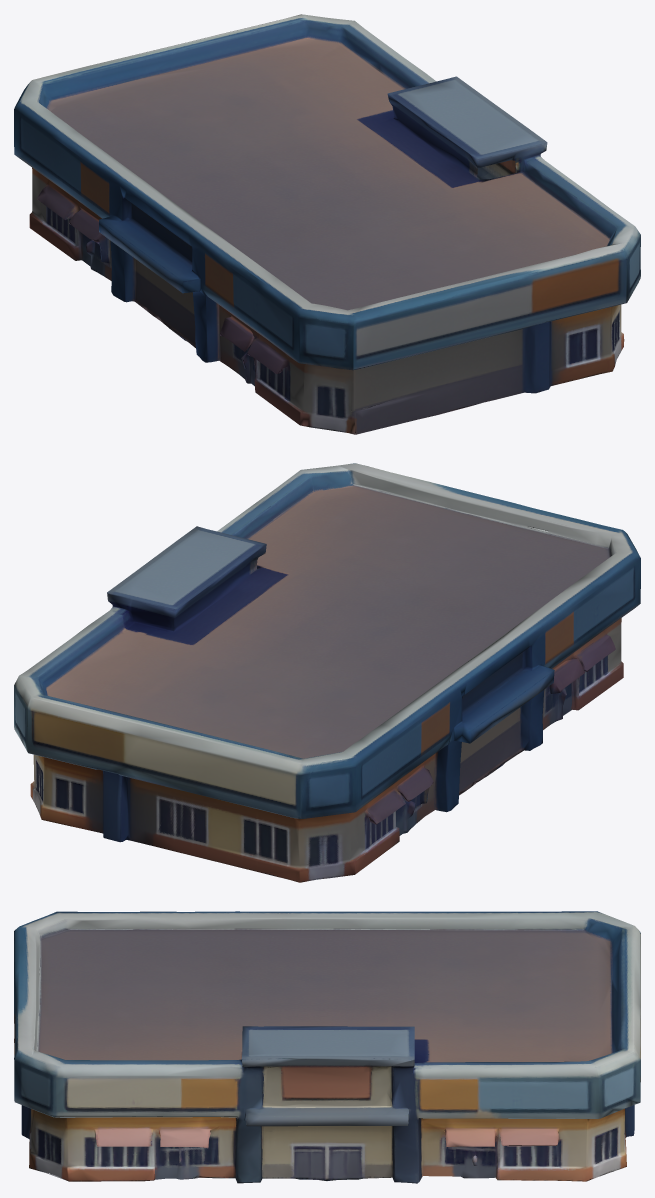
File: retail_mall.glb
3 views of the same model, one above another, from view 1: azimuth 30°, elevation 25°; view 2: azimuth 150°, elevation 25°; view 3: azimuth 270°, elevation 25° (orthographic). The views are drawn at different scales.
Parts seen in each view (by area): view 1: world; view 2: world; view 3: world.
Part boxes in pixels (left/top/right/bottom): world: left=14, top=14, right=640, bottom=434; world: left=14, top=463, right=640, bottom=882; world: left=14, top=911, right=640, bottom=1183.
Size of the model in its own units: 0.6539 by 0.2328 by 1.
1 material, 1 textured.
